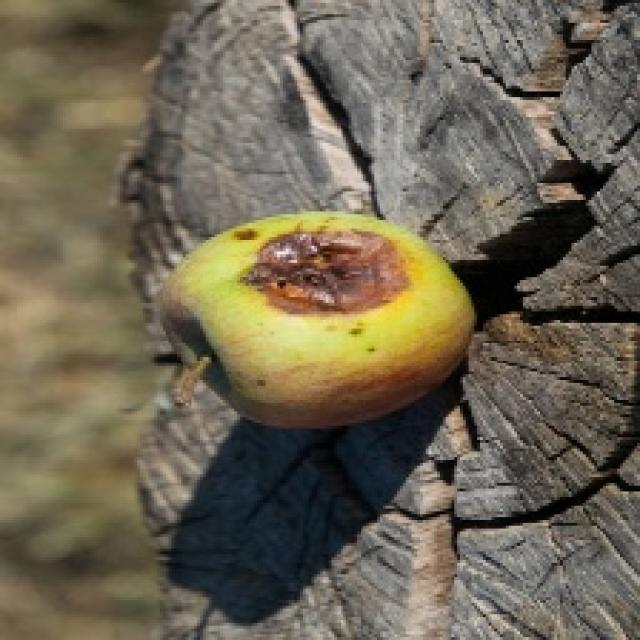rotten_apple: (168, 212, 473, 426)
